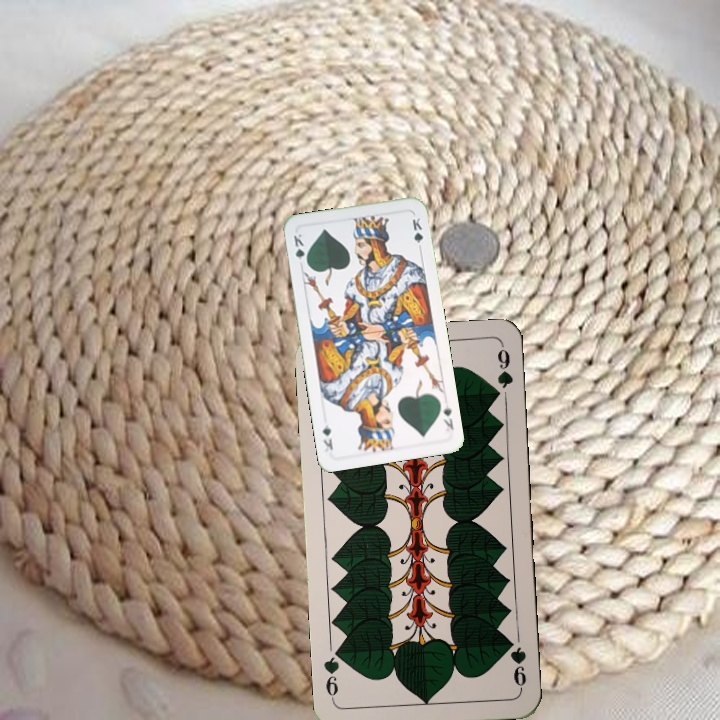G9: (503, 634, 529, 692)
GK: (289, 230, 310, 269), (439, 401, 456, 434)
